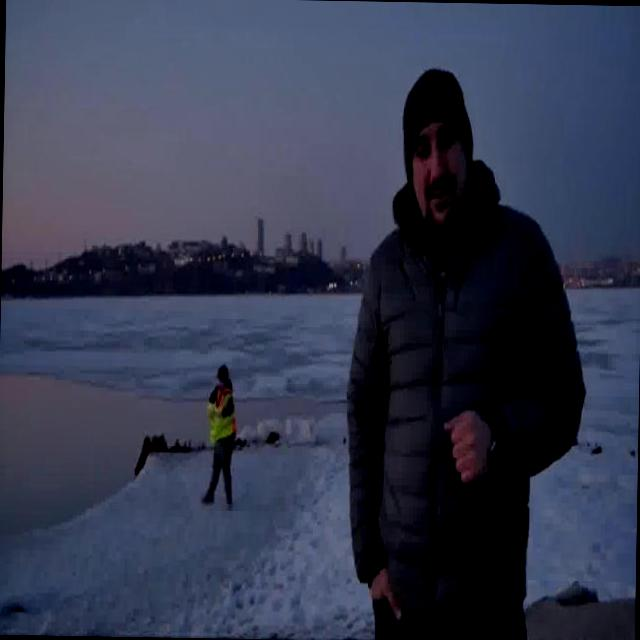vest: (208, 384, 235, 449)
